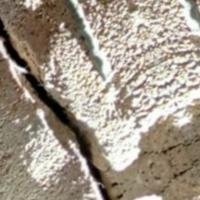crack: (0, 15, 131, 199)
